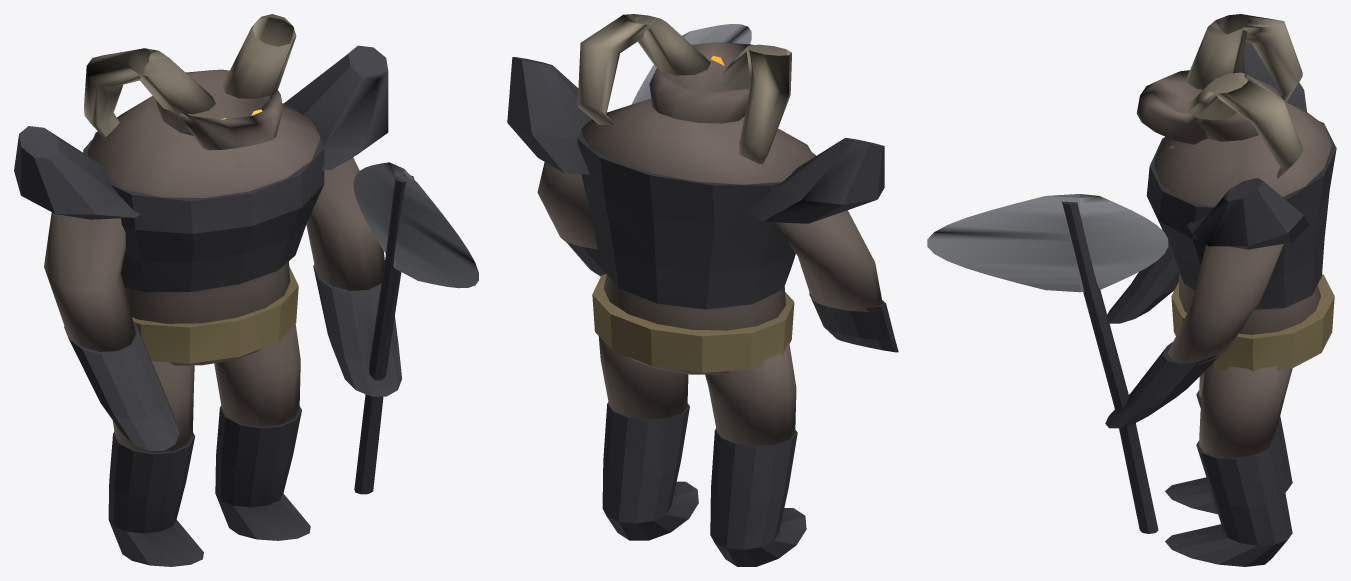
File: urgal_warrior.glb
3 views of the same model, side by side, from view 1: azimuth 30°, elevation 25°; view 2: azimuth 150°, elevation 25°; view 3: azimuth 270°, elevation 25° (orthographic). The views are drawn at different scales.
Parts seen in each view (by area): view 1: Torso, Head; view 2: Torso, Head; view 3: Torso, Head.
Part boxes in pixels (<box>): Torso: <box>14,14,478,566</box>; Head: <box>156,69,282,150</box>; Torso: <box>507,14,898,566</box>; Head: <box>649,42,752,123</box>; Torso: <box>927,14,1336,566</box>; Head: <box>1136,70,1282,144</box>.
Bounding box in the file's own units: 1.64 × 2.16 × 1.65.
